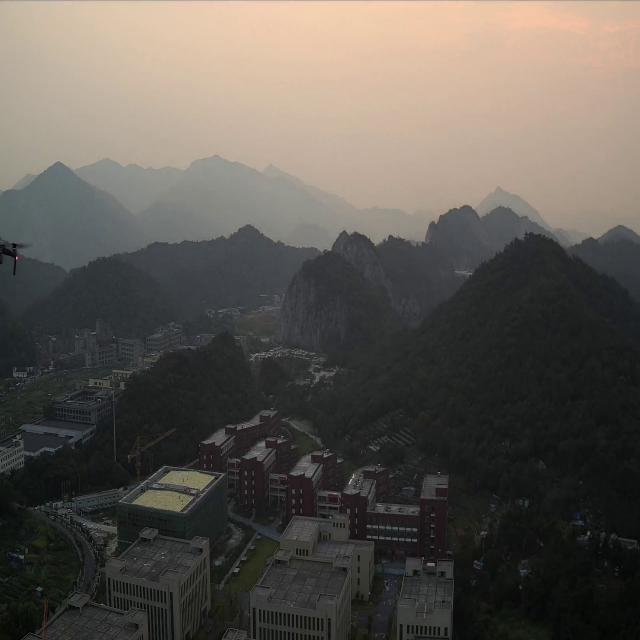UAV: (0, 237, 34, 277)
